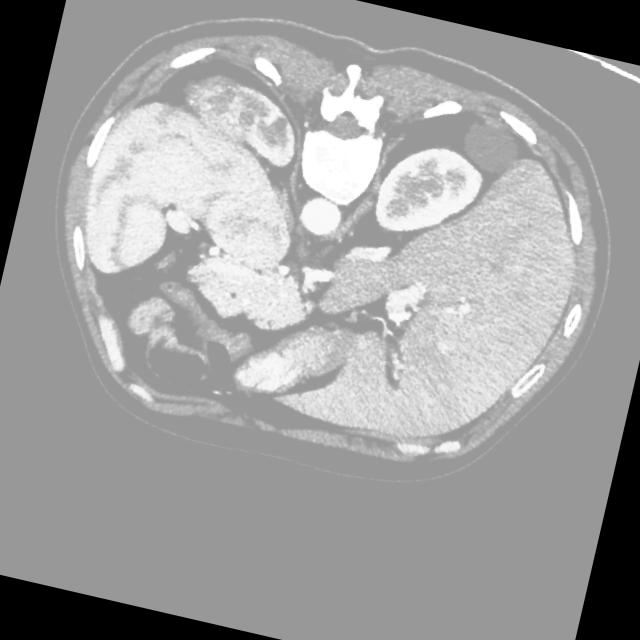TUMOR: (75, 64, 570, 430)
